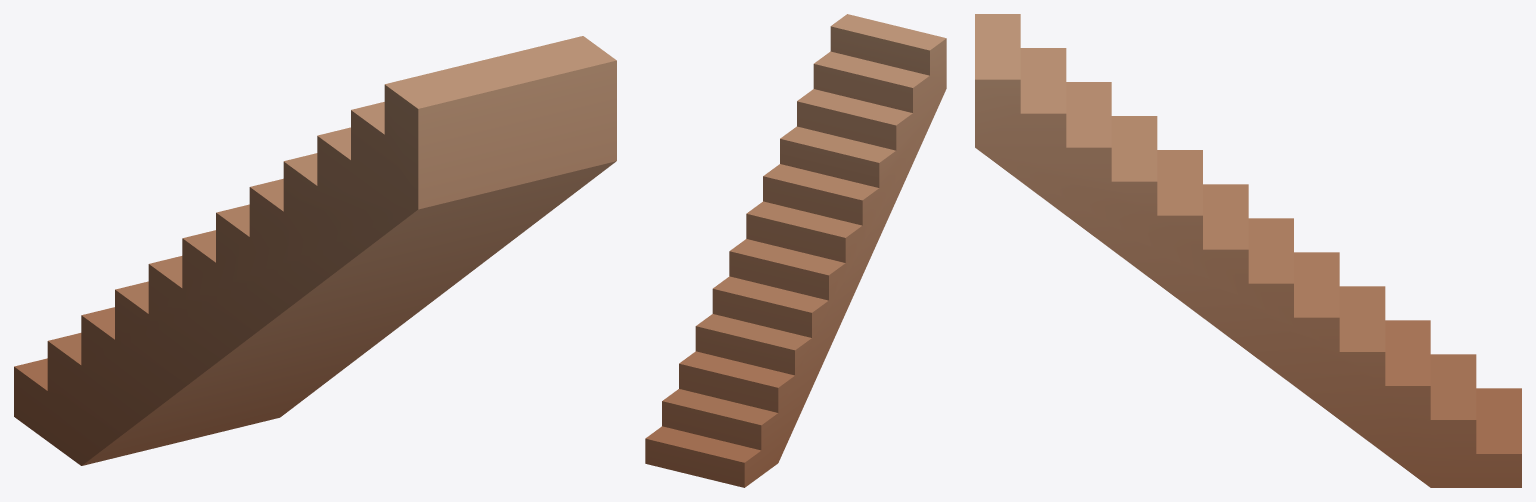
Rendered from stairs-stone.glb.
The picture shows the model from 3 angles, left to right: view 1: azimuth 30°, elevation 25°; view 2: azimuth 150°, elevation 25°; view 3: azimuth 270°, elevation 25°; orthographic projection. The views are drawn at different scales.
Visible parts, largest first — view 1: stairs-stone; view 2: stairs-stone; view 3: stairs-stone.
Part boxes in pixels (left/top/right/bottom): stairs-stone: left=14, top=36, right=616, bottom=465; stairs-stone: left=645, top=14, right=946, bottom=487; stairs-stone: left=975, top=14, right=1521, bottom=487.
Size of the model in its own units: 0.2325 by 0.675 by 0.819.
